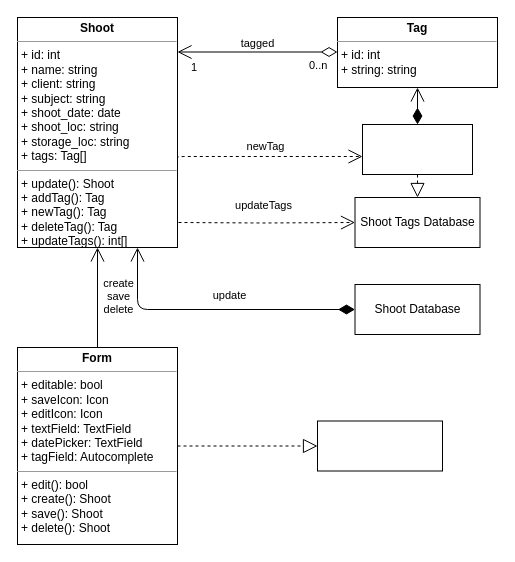
This 515x562 diagram has some shape labels left out. The shapes that lost their labels are listed below. From the top down, each one's centre as x and y in pixels, then its label:
At point 417,149: "Tags Database".
At point 379,445: "Material UI".
